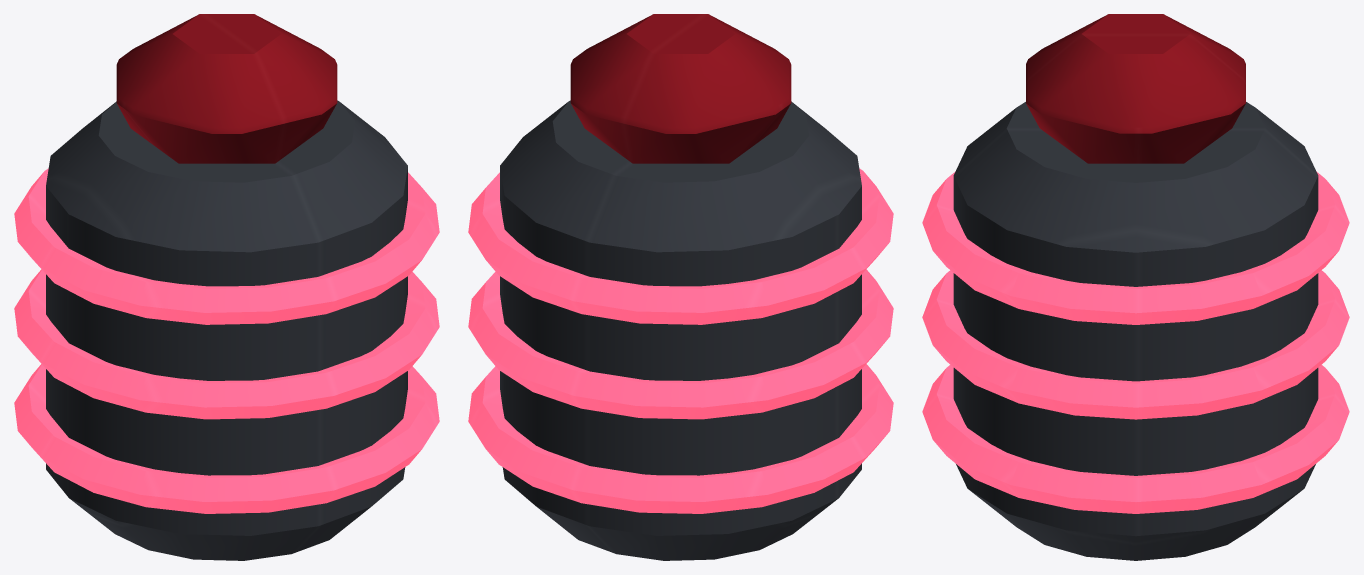
Rendered from gear_emp.glb.
The picture shows the model from 3 angles, left to right: view 1: azimuth 30°, elevation 25°; view 2: azimuth 150°, elevation 25°; view 3: azimuth 270°, elevation 25°; orthographic projection.
Parts seen in each view (by area): view 1: EMP_Body, EMP_CapMesh, EMP_Coil2, EMP_Coil1, EMP_Coil0; view 2: EMP_Body, EMP_CapMesh, EMP_Coil2, EMP_Coil1, EMP_Coil0; view 3: EMP_Body, EMP_CapMesh, EMP_Coil2, EMP_Coil1, EMP_Coil0.
Part boxes in pixels (<box>): EMP_Body: <box>46,100,407,560</box>; EMP_CapMesh: <box>116,14,337,163</box>; EMP_Coil2: <box>14,168,439,324</box>; EMP_Coil1: <box>14,269,439,419</box>; EMP_Coil0: <box>14,364,439,513</box>; EMP_Body: <box>500,100,861,560</box>; EMP_CapMesh: <box>570,14,791,163</box>; EMP_Coil2: <box>468,168,893,324</box>; EMP_Coil1: <box>468,269,893,419</box>; EMP_Coil0: <box>468,364,893,513</box>; EMP_Body: <box>953,102,1318,560</box>; EMP_CapMesh: <box>1026,14,1245,163</box>; EMP_Coil2: <box>922,171,1349,324</box>; EMP_Coil1: <box>922,270,1349,419</box>; EMP_Coil0: <box>922,364,1349,513</box>.
Bounding box in the file's own units: 0.082 × 0.1 × 0.082.
3 materials, 3 textured.
